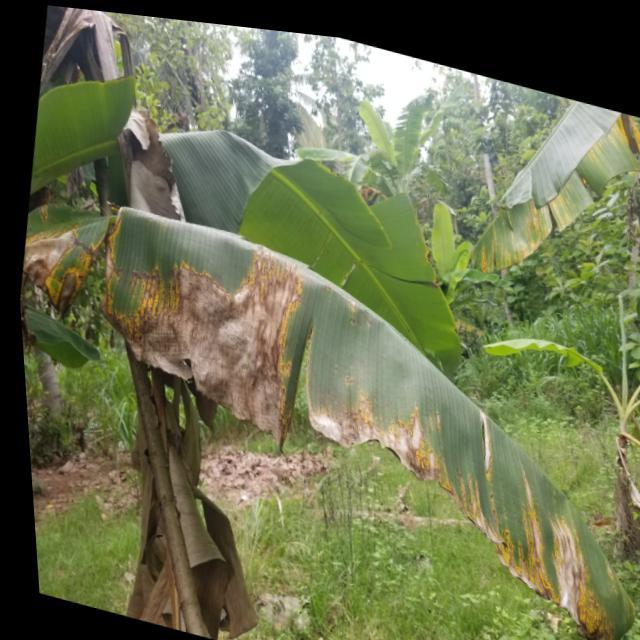Early_rust: (34, 194, 611, 640), (456, 116, 639, 266)
